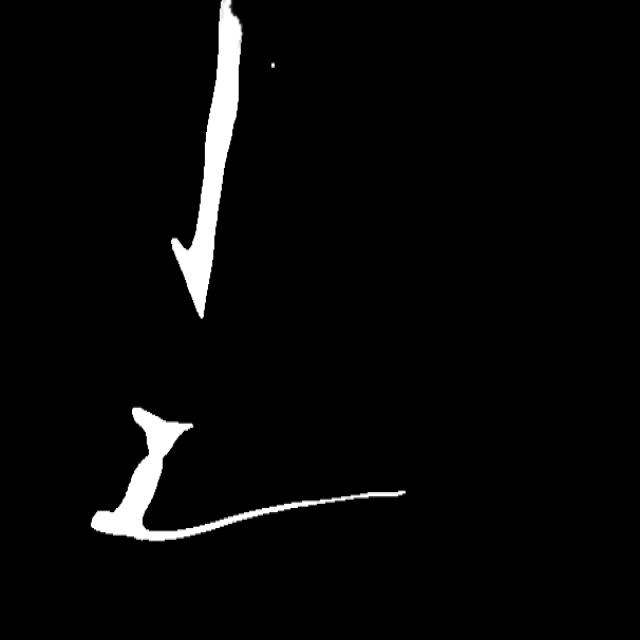sl: (212, 0, 247, 42)
